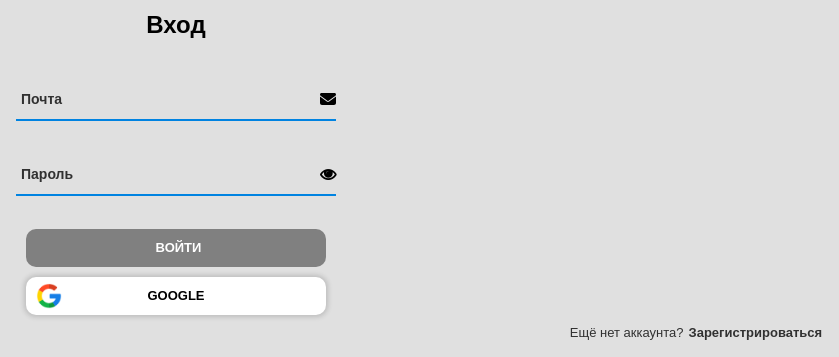
Test case: Валидация полей в форме 'Вход' › Поле email должно быть невалидным
In the field with test id "emailInput": (168, 99) x1=16 y1=79 x2=320 y2=119, type "testgmail.com"
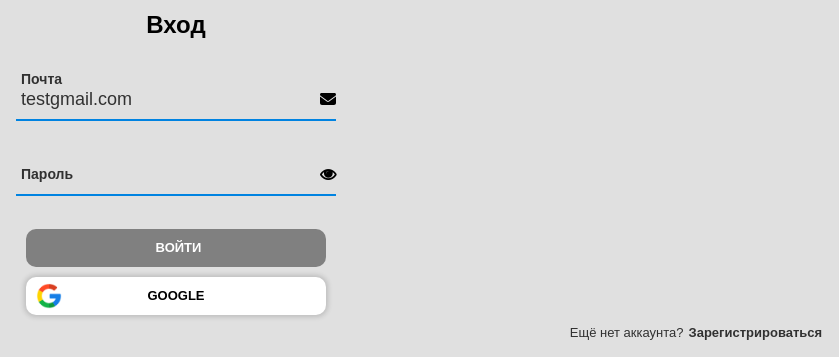
Press Tab
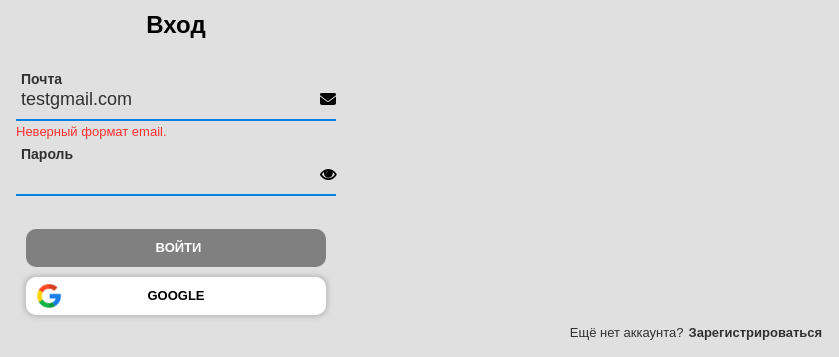
expect the text "Неверный формат email." is shown: met, box x1=16 y1=124 x2=166 y2=139
